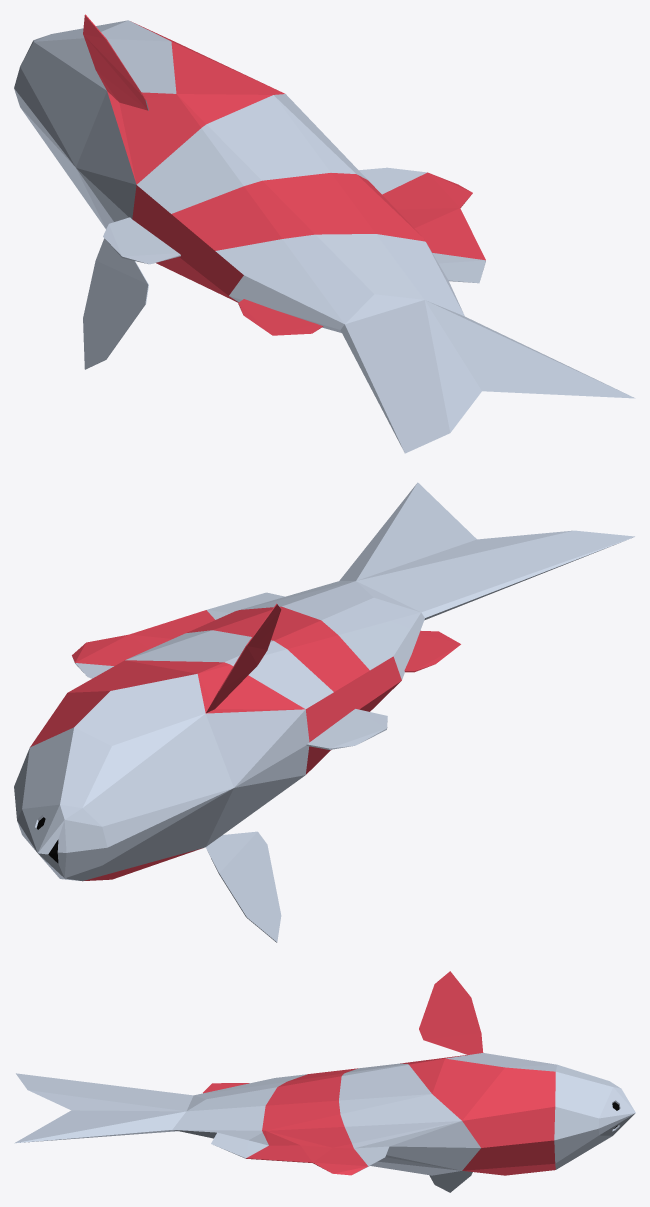
Rendered from fish_rizzler.glb.
3 renders of one model, top to bottom at view 1: azimuth 30°, elevation 25°; view 2: azimuth 150°, elevation 25°; view 3: azimuth 270°, elevation 25°, orthographic. The views are drawn at different scales.
Visible parts, largest first — view 1: 0.066, 1.041; view 2: 0.066, 1.041; view 3: 0.066, 1.041.
Part boxes in pixels (left/top/right/bottom): 0.066: left=14, top=20, right=635, bottom=453; 1.041: left=83, top=14, right=485, bottom=335; 0.066: left=14, top=482, right=634, bottom=942; 1.041: left=30, top=603, right=460, bottom=880; 0.066: left=14, top=1053, right=635, bottom=1192; 1.041: left=203, top=971, right=555, bottom=1175.
Size of the model in its own units: 0.1577 by 0.1606 by 0.408.
